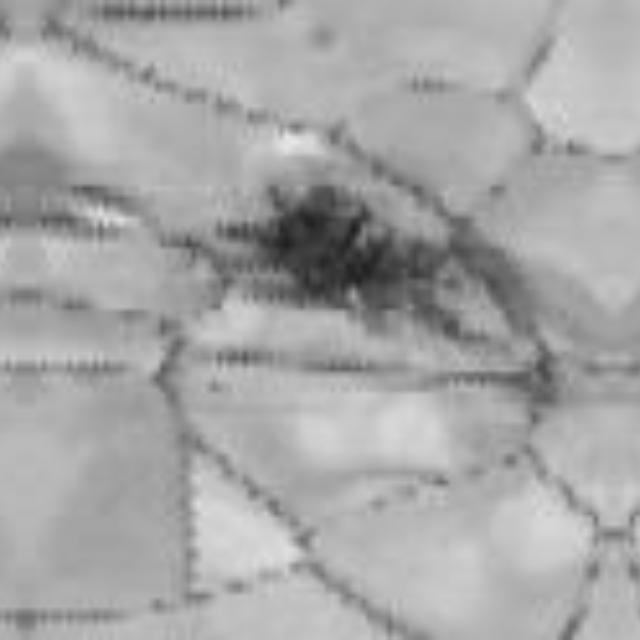good_void: (219, 179, 480, 345)
